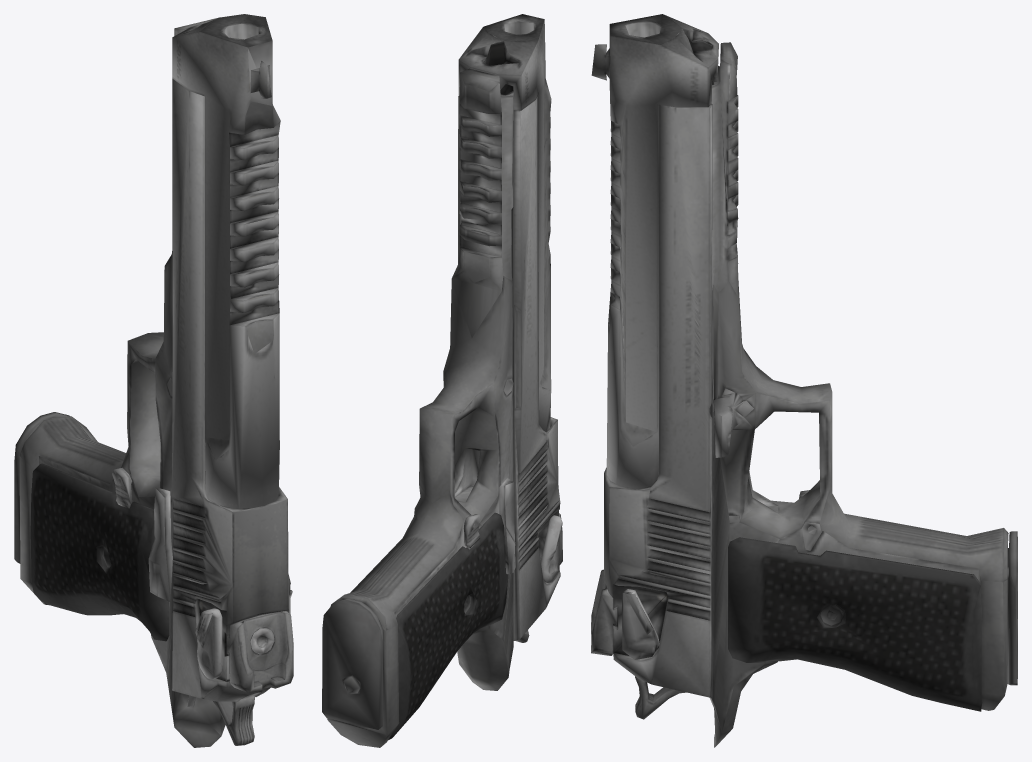
The model's file is Handgun.fbx.
The picture shows the model from 3 angles, left to right: view 1: azimuth 30°, elevation 25°; view 2: azimuth 150°, elevation 25°; view 3: azimuth 270°, elevation 25°; orthographic projection. The views are drawn at different scales.
Visible parts, largest first — view 1: Handgun; view 2: Handgun; view 3: Handgun.
Part boxes in pixels (x1,y1,x2,y2): Handgun: [14, 14, 293, 747]; Handgun: [322, 14, 562, 747]; Handgun: [591, 14, 1017, 747].
Bounding box in the file's own units: 0.0263 × 0.207 × 0.1117.
